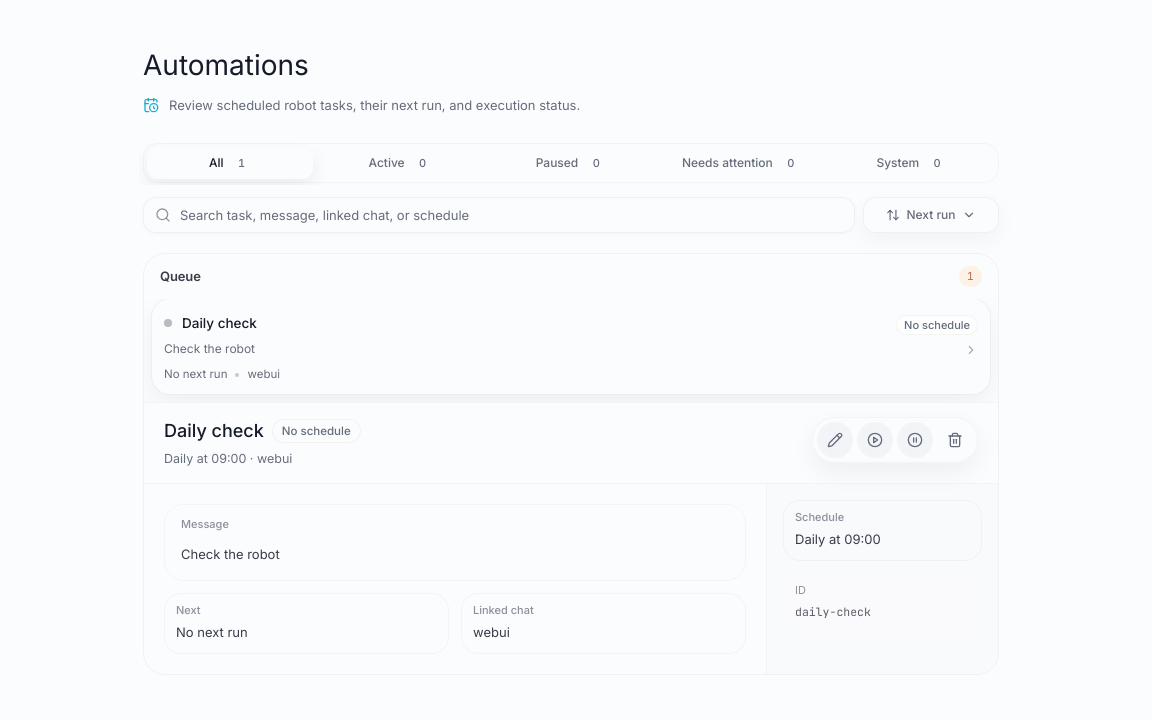
Test case: SettingsView Apps catalog › keeps automation deletion pending, blocks duplicate requests, and supports retry
This screenshot has width=1152, height=720.
expect the text "Daily check" is shown: met, box [182, 312, 257, 333]
What coordinates should you click on to do the following:
click the button named "Delete"
I would click on:
 (955, 440)
Its box is [937, 422, 973, 458].
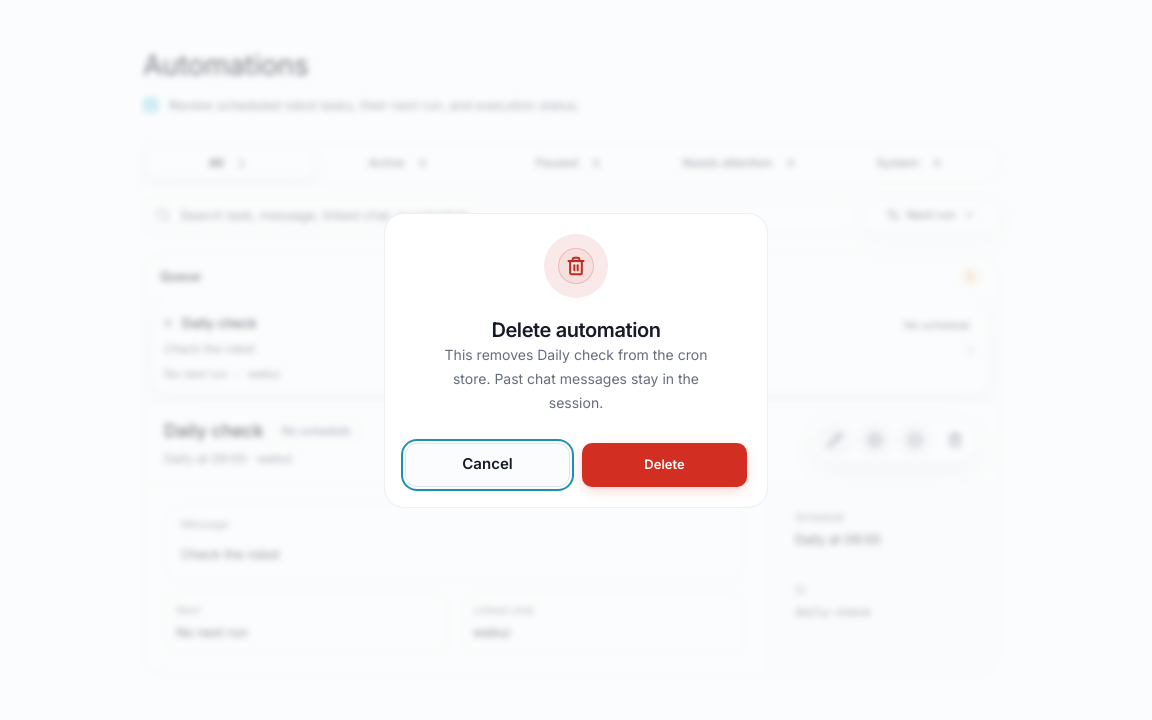
What coordinates should you click on to do the following:
click the button "Delete"
I would click on:
 (664, 464)
Its box is [582, 442, 747, 486].
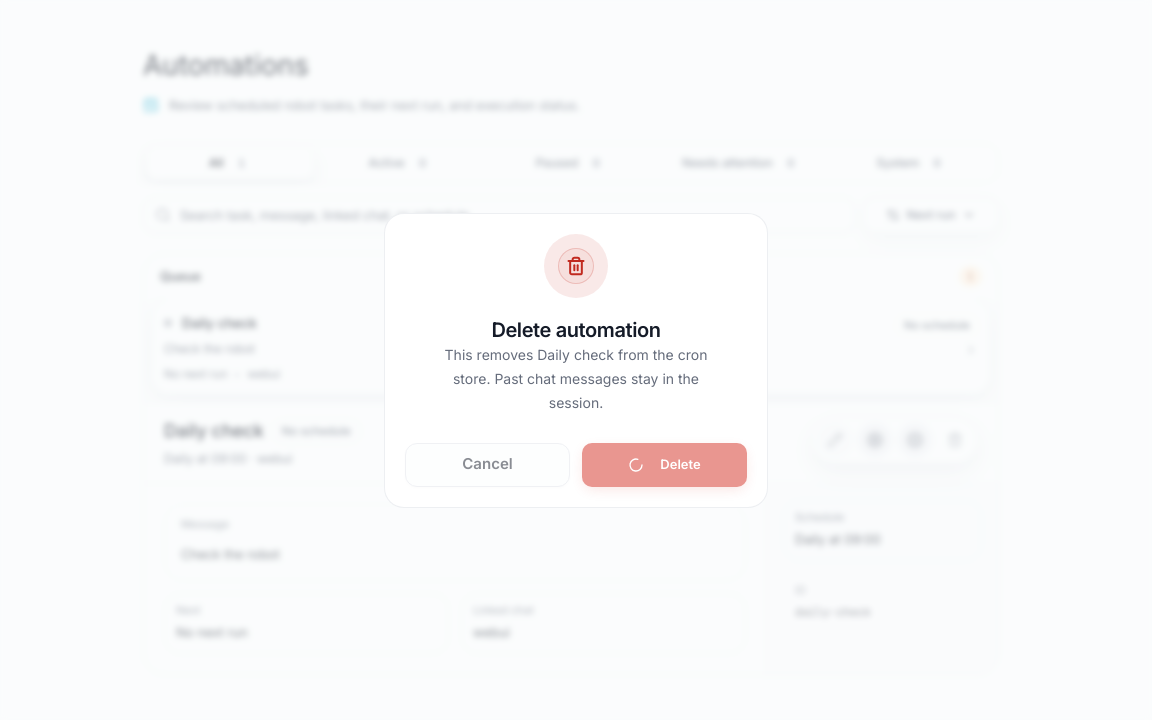
expect the dialog is shown: met, box [384, 212, 768, 508]
expect the button "Delete" is disabled: met
expect the button "Cancel" is disabled: met, box [405, 442, 570, 486]
What coordinates should you click on to do the following:
click the button "Delete"
I would click on:
 (664, 464)
Its box is [582, 442, 747, 486].
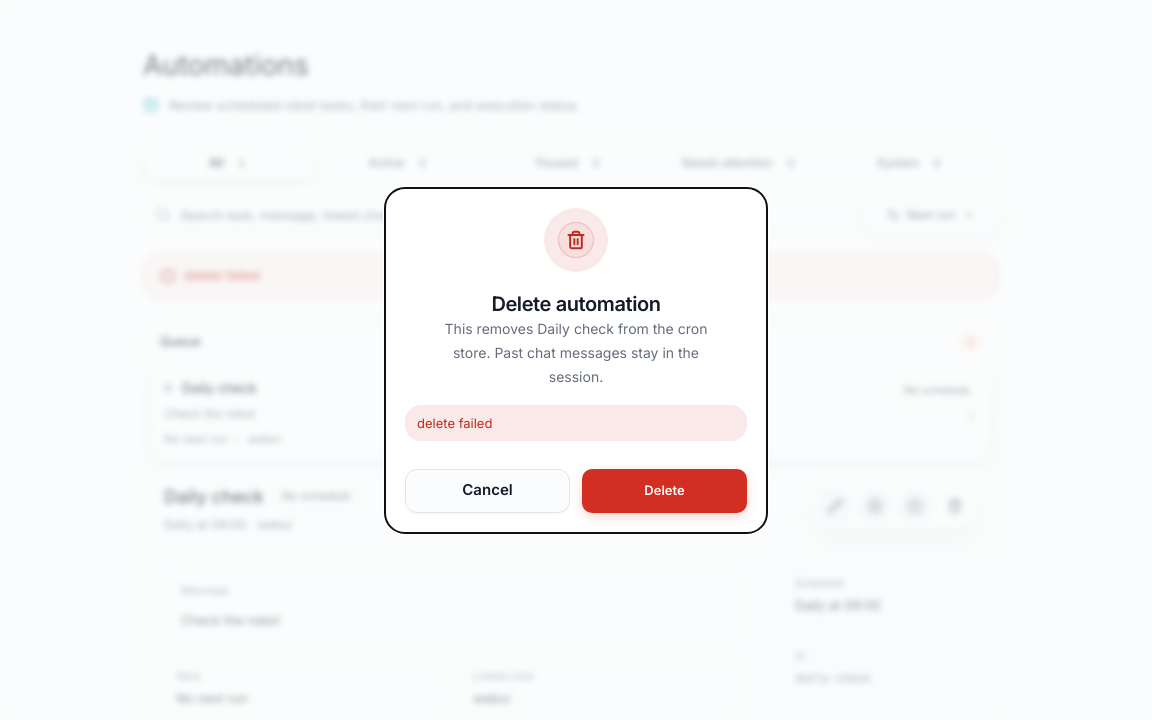
expect the dialog is shown: met, box [384, 186, 768, 534]
expect the message reads "delete failed": met, box [417, 414, 492, 430]
expect the button "Delete" is enabled: met
What coordinates should you click on to do the following:
click the button "Delete"
I would click on:
 (664, 490)
Its box is [582, 468, 747, 512].
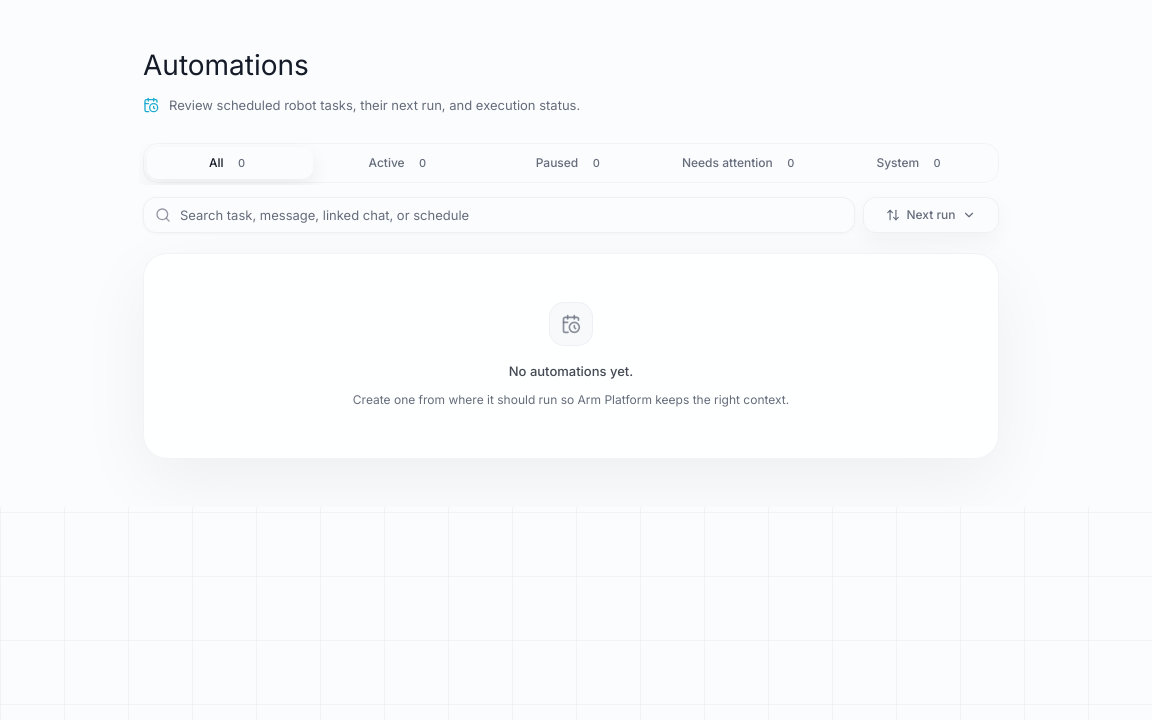
expect the dialog is gone: met
